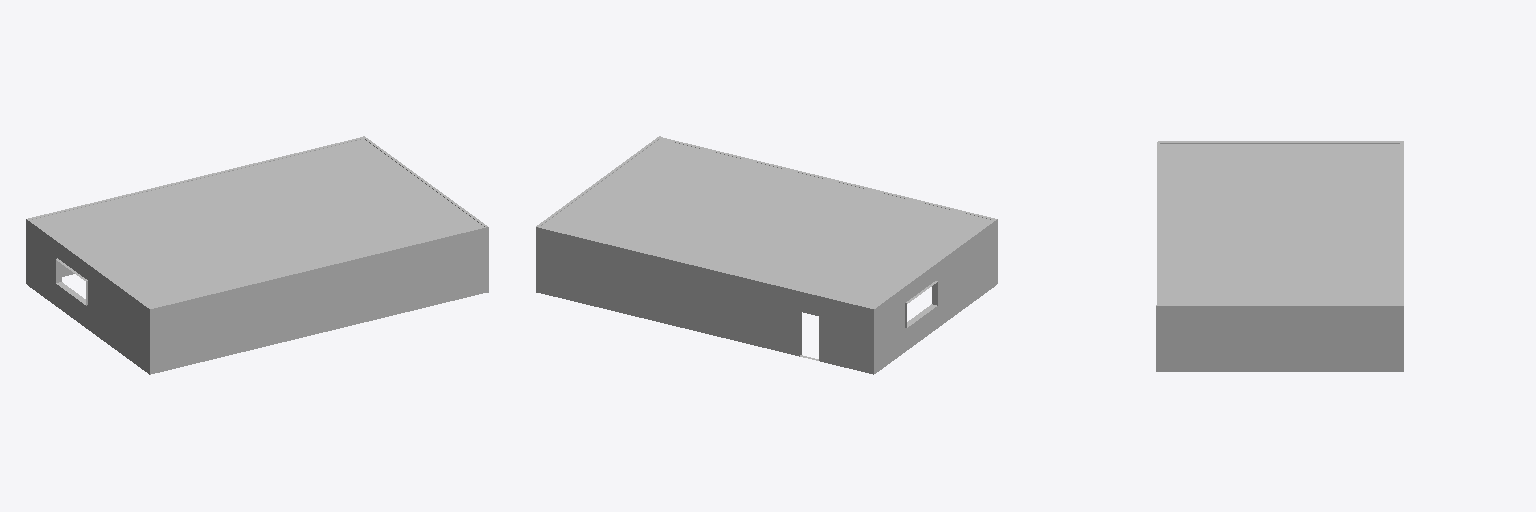
The model's file is room.obj.
The picture shows the model from 3 angles: view 1: azimuth 30°, elevation 25°; view 2: azimuth 150°, elevation 25°; view 3: azimuth 270°, elevation 25°; orthographic projection.
Parts seen in each view (by area): view 1: roomWithWindow.002; view 2: roomWithWindow.002; view 3: roomWithWindow.002.
Boxes of the visible parts, x1=… form: roomWithWindow.002: x1=26, y1=136, x2=488, y2=374; roomWithWindow.002: x1=536, y1=136, x2=997, y2=374; roomWithWindow.002: x1=1156, y1=141, x2=1403, y2=371.
Bounding box in the file's own units: 16.2 × 2.99 × 10.18.